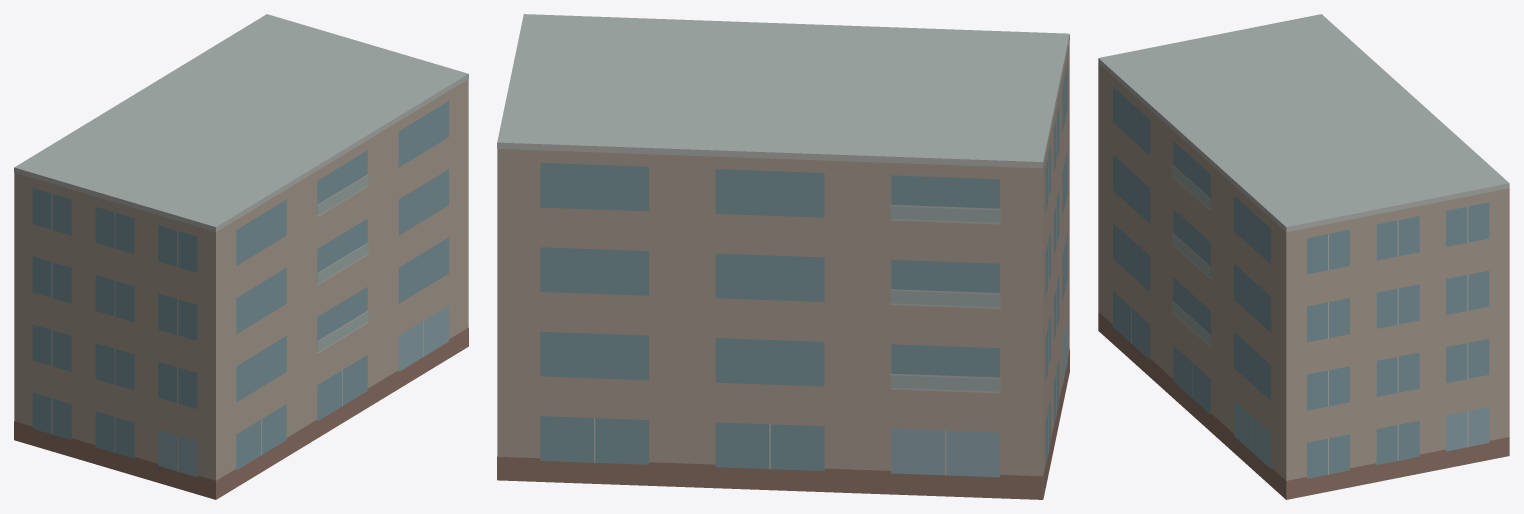
The model's file is survey-upis-33046494.glb.
The picture shows the model from 3 angles, left to right: view 1: azimuth 30°, elevation 25°; view 2: azimuth 150°, elevation 25°; view 3: azimuth 270°, elevation 25°; orthographic projection. The views are drawn at different scales.
Parts seen in each view (by area): view 1: survey-upis-33046494.tmp; view 2: survey-upis-33046494.tmp; view 3: survey-upis-33046494.tmp.
Part boxes in pixels (box(x1,y1,x2,y2)): survey-upis-33046494.tmp: box(14, 14, 468, 499); survey-upis-33046494.tmp: box(497, 14, 1069, 499); survey-upis-33046494.tmp: box(1098, 14, 1509, 499).
Size of the model in its own units: 22.14 by 13.2 by 18.06.
